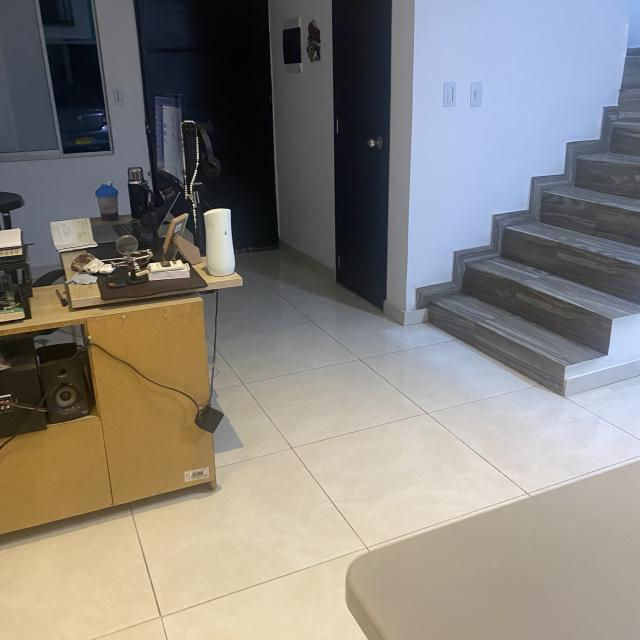obstacle: (3, 174, 240, 547)
stair: (411, 79, 640, 400)
